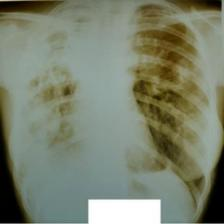tuberculosis: (8, 1, 212, 224)
